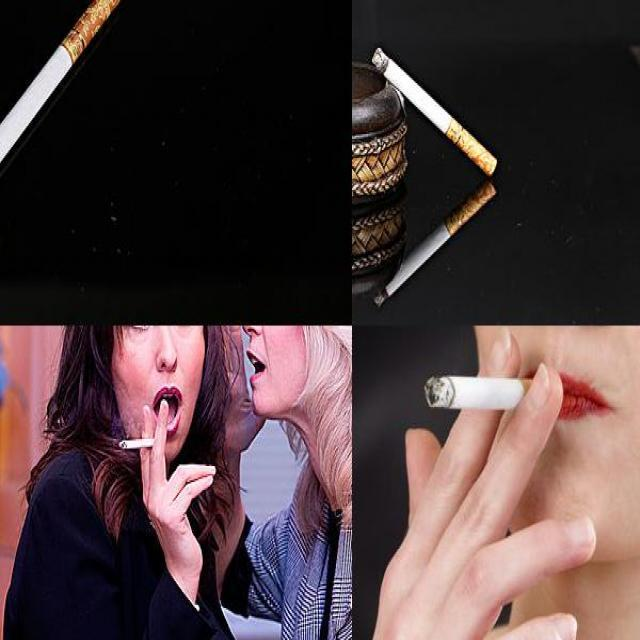smoke: (0, 0, 125, 184), (358, 180, 510, 308), (368, 38, 501, 177), (425, 372, 546, 414), (117, 437, 160, 452)
